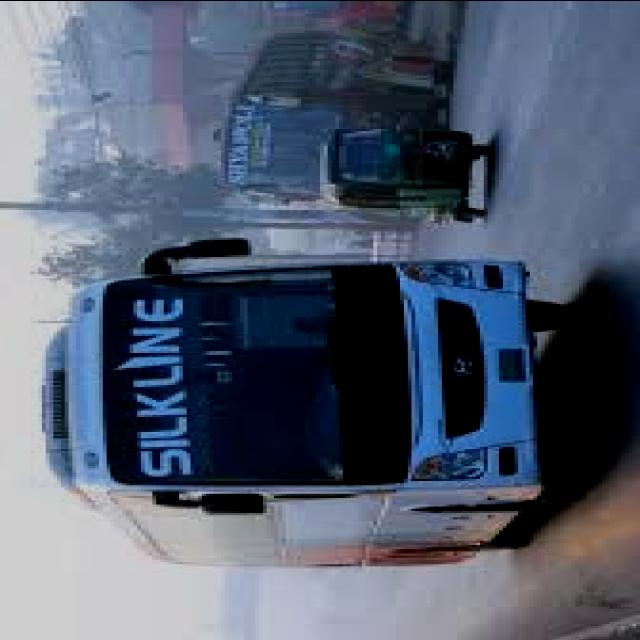bus: (49, 256, 611, 579), (212, 34, 449, 203)
